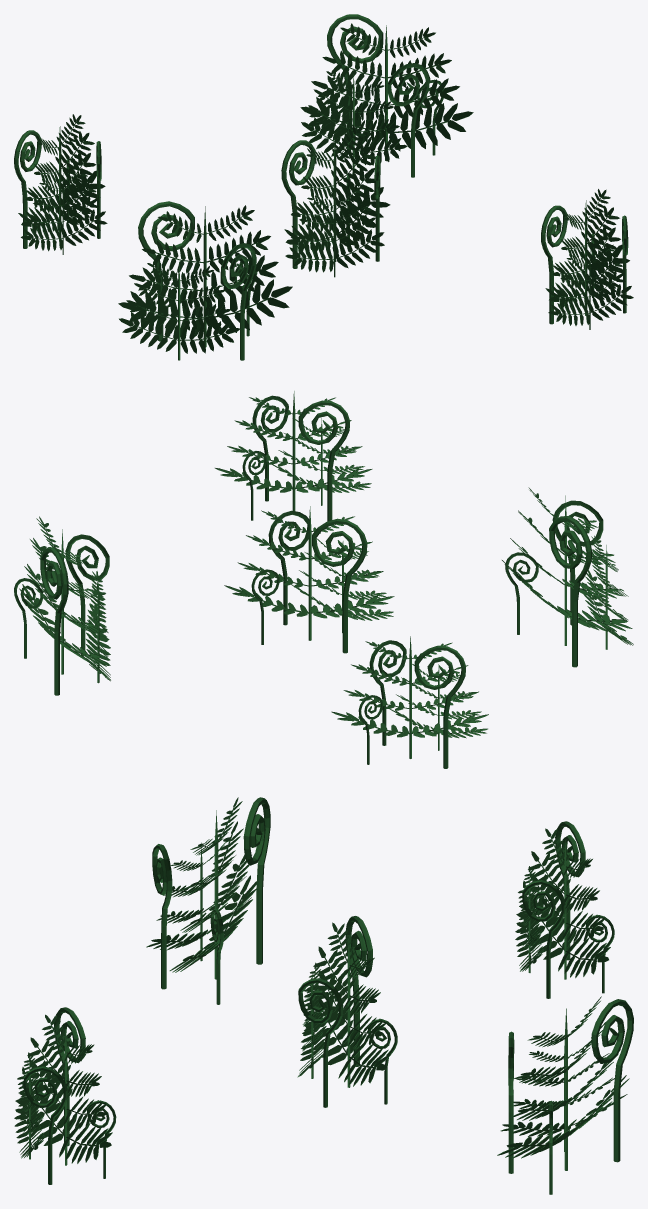
3 views of the same model, one above another, from view 1: azimuth 30°, elevation 25°; view 2: azimuth 150°, elevation 25°; view 3: azimuth 270°, elevation 25° (orthographic). The views are drawn at different scales.
Visible parts, largest first — view 1: Cylinder006; view 2: Cylinder006; view 3: Cylinder006.
Boxes of the visible parts, x1,y1,x2,y2 form: Cylinder006: [14, 14, 633, 360]; Cylinder006: [14, 391, 633, 768]; Cylinder006: [14, 797, 633, 1194].
Bounding box in the file's own units: 145 × 42.32 × 140.
